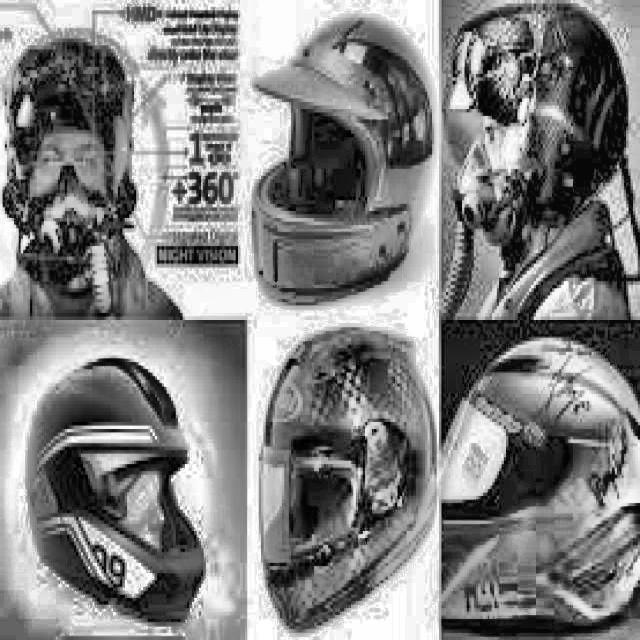Helmet: (435, 340, 640, 633), (254, 317, 436, 628), (253, 8, 438, 304), (20, 358, 215, 624)
